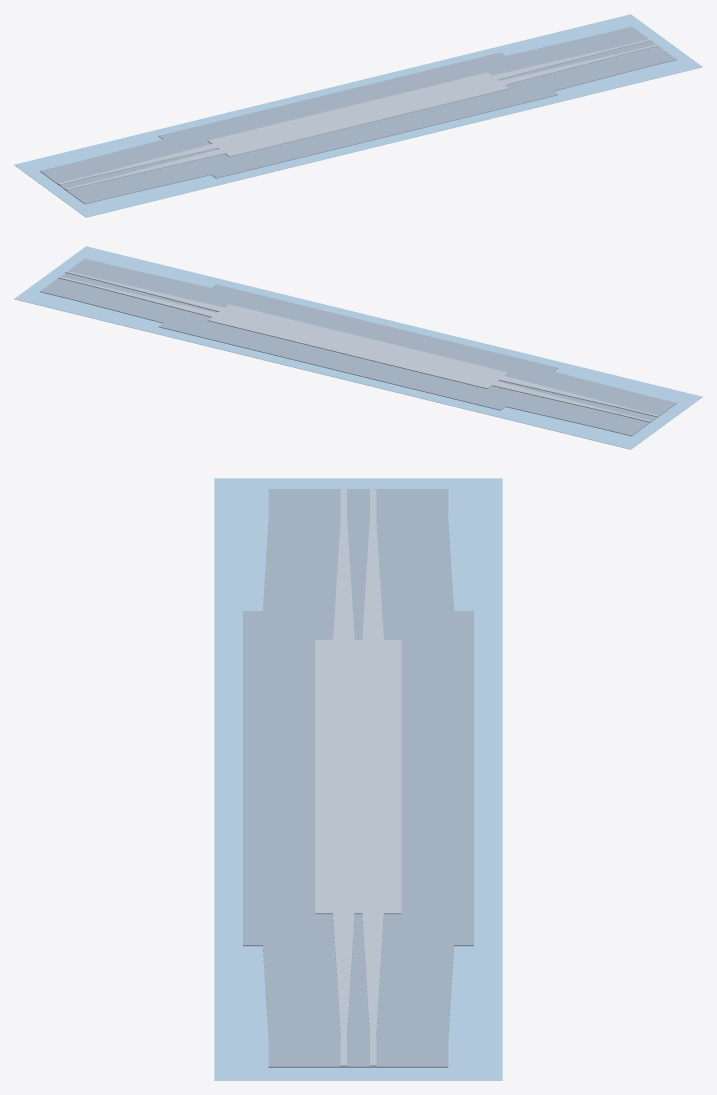
The model's file is cs-si220-mmi2x2-rib.glb.
3 views of the same model, one above another, from view 1: azimuth 30°, elevation 25°; view 2: azimuth 150°, elevation 25°; view 3: azimuth 270°, elevation 25° (orthographic). The views are drawn at different scales.
Parts seen in each view (by area): view 1: slab_0, box_top, core_0; view 2: slab_0, box_top, core_0; view 3: slab_0, box_top, core_0.
Part boxes in pixels (bbox=[...]): slab_0: bbox=[40, 26, 676, 204]; box_top: bbox=[14, 14, 702, 217]; core_0: bbox=[58, 39, 658, 190]; slab_0: bbox=[40, 258, 676, 436]; box_top: bbox=[14, 246, 702, 449]; core_0: bbox=[58, 271, 658, 422]; slab_0: bbox=[243, 489, 473, 1067]; box_top: bbox=[214, 478, 502, 1080]; core_0: bbox=[315, 487, 401, 1067].
Bounding box in the file's own units: 98.8 × 0.26 × 20.
